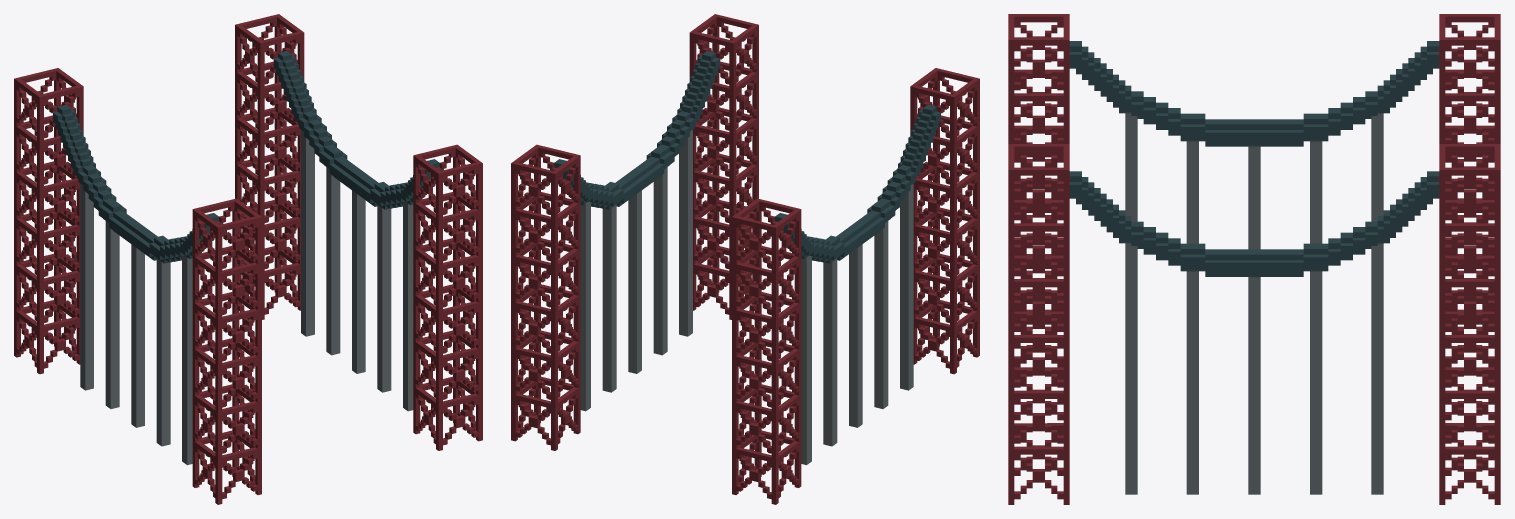
Rendered from bridge_suspension.glb.
The picture shows the model from 3 angles, left to right: view 1: azimuth 30°, elevation 25°; view 2: azimuth 150°, elevation 25°; view 3: azimuth 270°, elevation 25°; orthographic projection. The views are drawn at different scales.
Parts seen in each view (by area): view 1: bridge_suspension; view 2: bridge_suspension; view 3: bridge_suspension.
Part boxes in pixels (<box>): bridge_suspension: <box>14,14,482,504</box>; bridge_suspension: <box>511,14,979,504</box>; bridge_suspension: <box>1008,14,1500,504</box>.
Bounding box in the file's own units: 6 × 6 × 8.
1 material, 1 textured.
